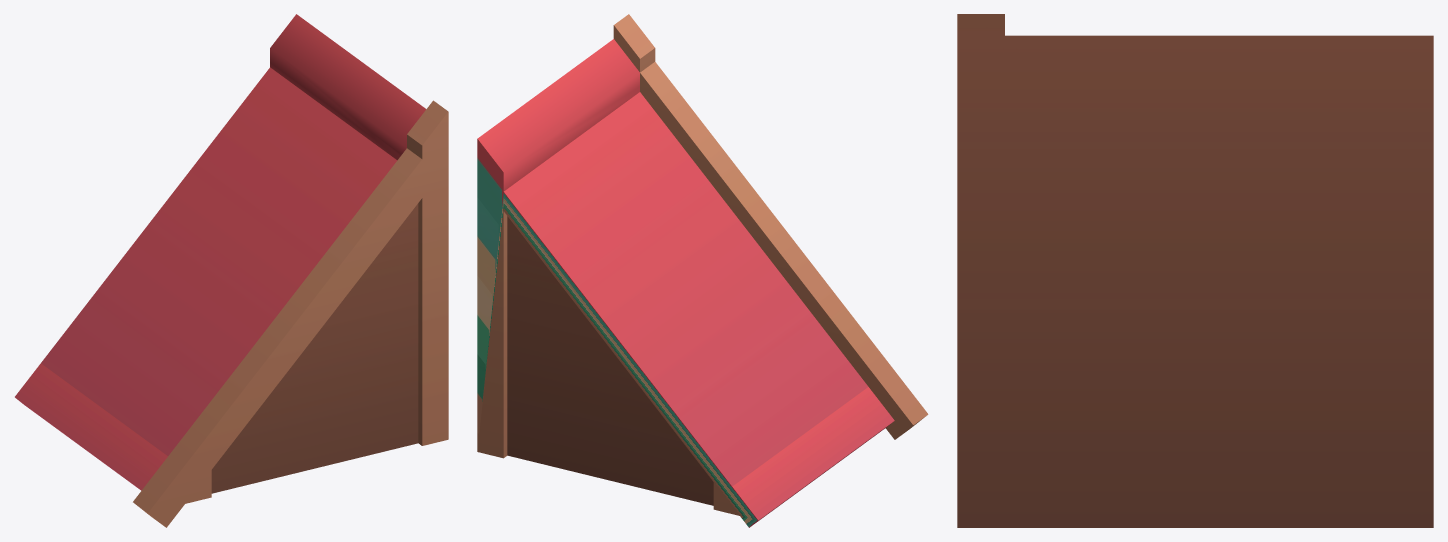
Rendered from roof-high-right.glb.
3 views of the same model, side by side, from view 1: azimuth 30°, elevation 25°; view 2: azimuth 150°, elevation 25°; view 3: azimuth 270°, elevation 25° (orthographic). The views are drawn at different scales.
Parts seen in each view (by area): view 1: roof-high-right; view 2: roof-high-right; view 3: roof-high-right.
Boxes of the visible parts, x1=… form: roof-high-right: x1=15, y1=14, x2=448, y2=527; roof-high-right: x1=477, y1=14, x2=928, y2=527; roof-high-right: x1=957, y1=14, x2=1433, y2=527.
Size of the model in its own units: 1.14 by 1.26 by 1.
Materials: 1 (1 with a texture image).
